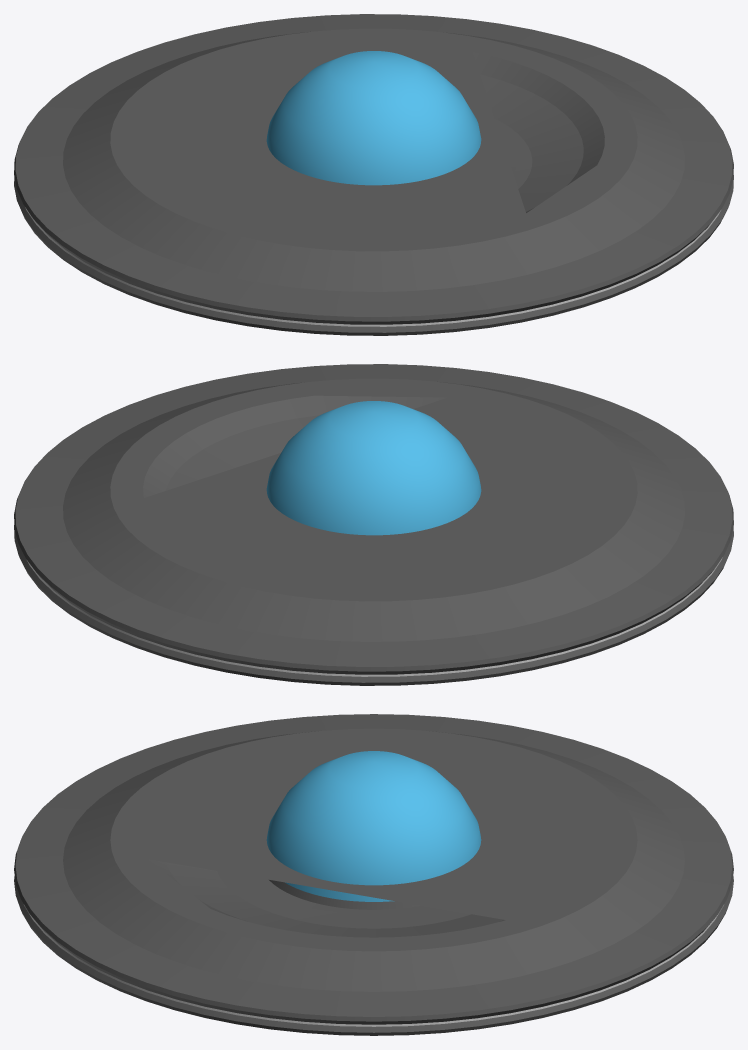
The model's file is UFO.fbx.
3 renders of one model, top to bottom at view 1: azimuth 30°, elevation 25°; view 2: azimuth 150°, elevation 25°; view 3: azimuth 270°, elevation 25°, orthographic.
Parts seen in each view (by area): view 1: Cylinder; view 2: Cylinder; view 3: Cylinder.
Part boxes in pixels (x1=…): Cylinder: x1=14, y1=14, x2=733, y2=335; Cylinder: x1=14, y1=364, x2=733, y2=685; Cylinder: x1=14, y1=714, x2=733, y2=1035.
Bounding box in the file's own units: 655 × 148 × 655.
